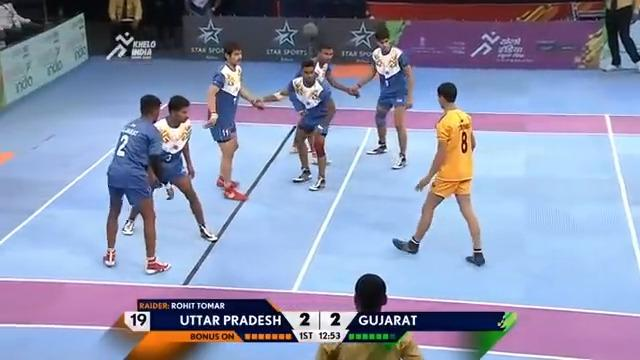Player: (121, 94, 218, 243), (102, 93, 173, 274), (258, 57, 336, 191), (202, 40, 264, 202), (350, 25, 414, 169), (288, 42, 358, 165)
Raider: (392, 80, 489, 269)
referee: (314, 272, 422, 359), (599, 0, 639, 73)
